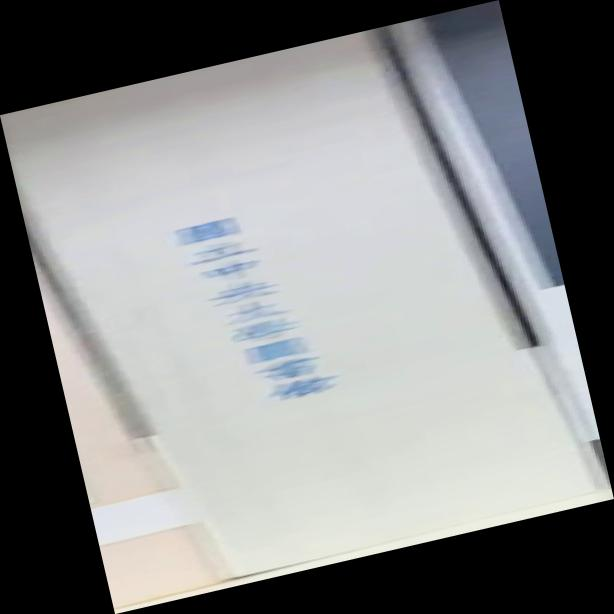backward: (1, 2, 612, 614)
